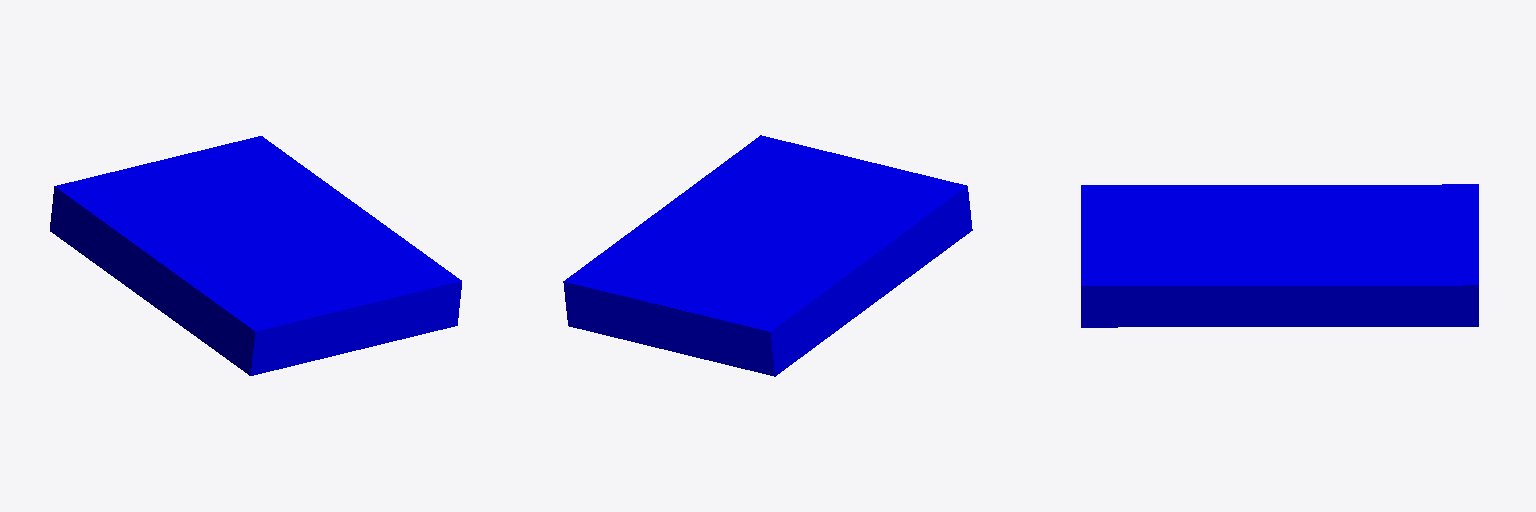
File: planes_1-dynamic - BLK2GO-3630355-Scan 080 15.obj
3 renders of one model, left to right at view 1: azimuth 30°, elevation 25°; view 2: azimuth 150°, elevation 25°; view 3: azimuth 270°, elevation 25°, orthographic.
Parts seen in each view (by area): view 1: 1-dynamic_-_BLK2GO-[number redacted]-Scan_080_15_0; view 2: 1-dynamic_-_BLK2GO-[number redacted]-Scan_080_15_0; view 3: 1-dynamic_-_BLK2GO-[number redacted]-Scan_080_15_0.
Part boxes in pixels (x1,y1,x2,y2): 1-dynamic_-_BLK2GO-[number redacted]-Scan_080_15_0: (50, 136, 461, 375); 1-dynamic_-_BLK2GO-[number redacted]-Scan_080_15_0: (563, 135, 972, 376); 1-dynamic_-_BLK2GO-[number redacted]-Scan_080_15_0: (1081, 184, 1478, 327).
Bounding box in the file's own units: 1.04 × 0.203 × 1.68.